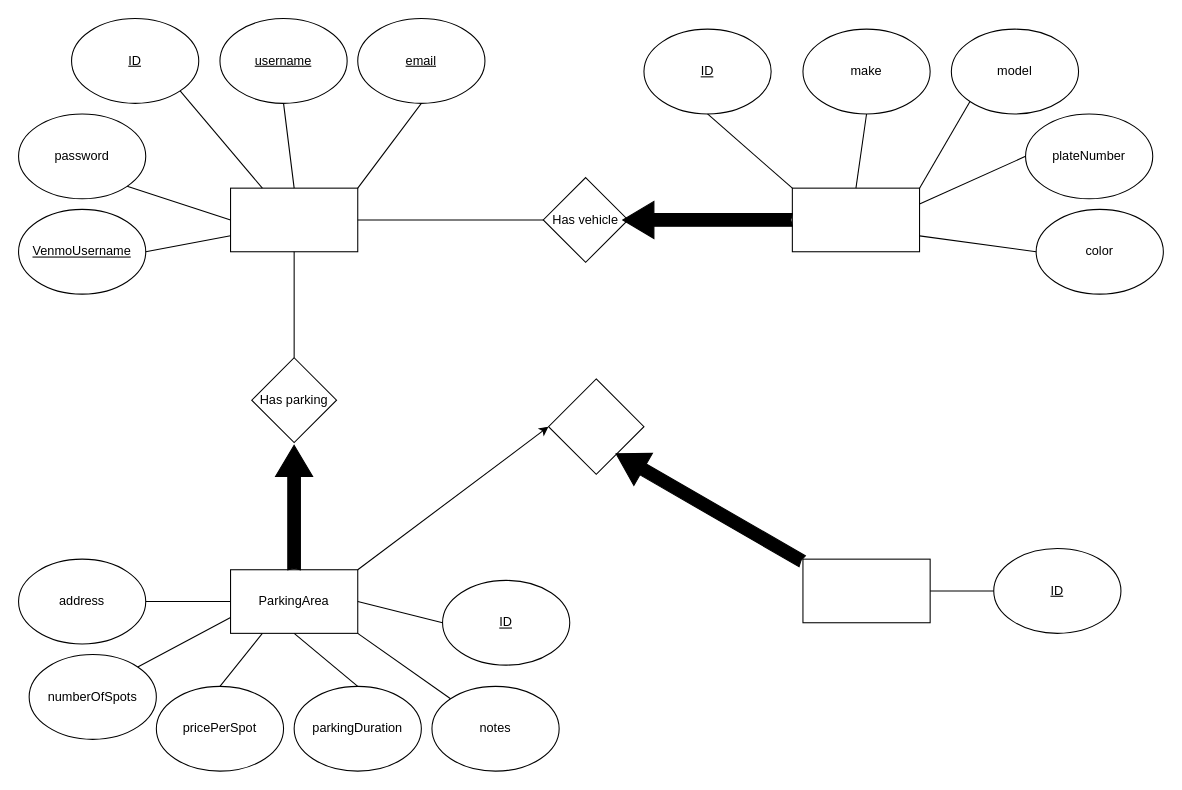
This 1182x790 diagram has some shape labels left out. The shapes that lost their labels are listed below. From the top down, each one's centre as x and y in pixels, then its label:
At (293,219): "User".
At (855,219): "UserVehicles".
At (595,426): "IsParkingArea".
At (866,590): "ListedParking".
